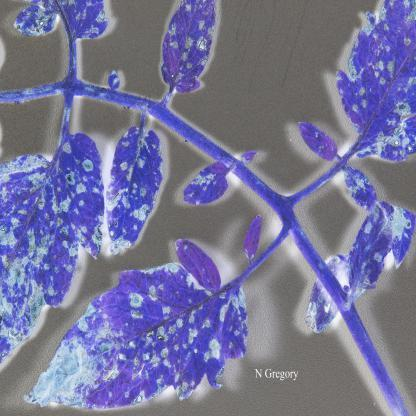Tomato Septoria leaf spot: (27, 252, 252, 410), (0, 114, 106, 374), (320, 4, 416, 180), (97, 127, 163, 264), (148, 0, 230, 96), (348, 191, 414, 308), (176, 159, 233, 222)
